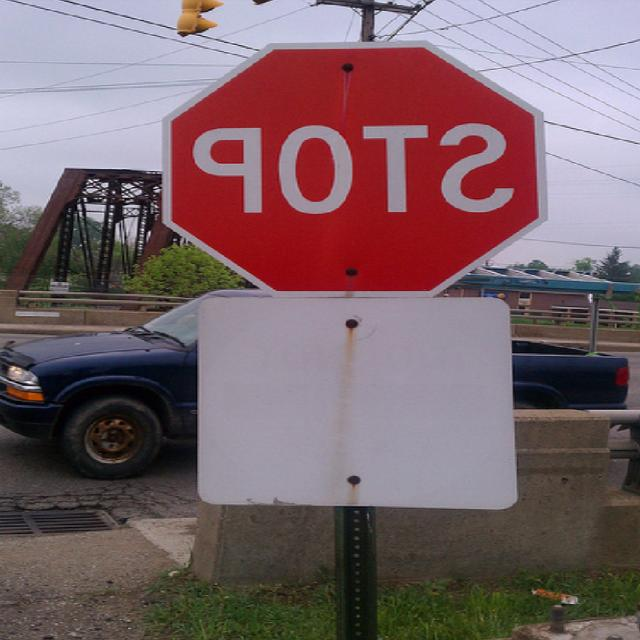STOP: (148, 41, 561, 293)
